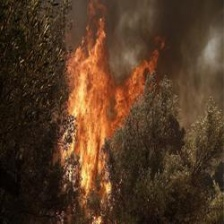fire: (60, 35, 164, 224)
